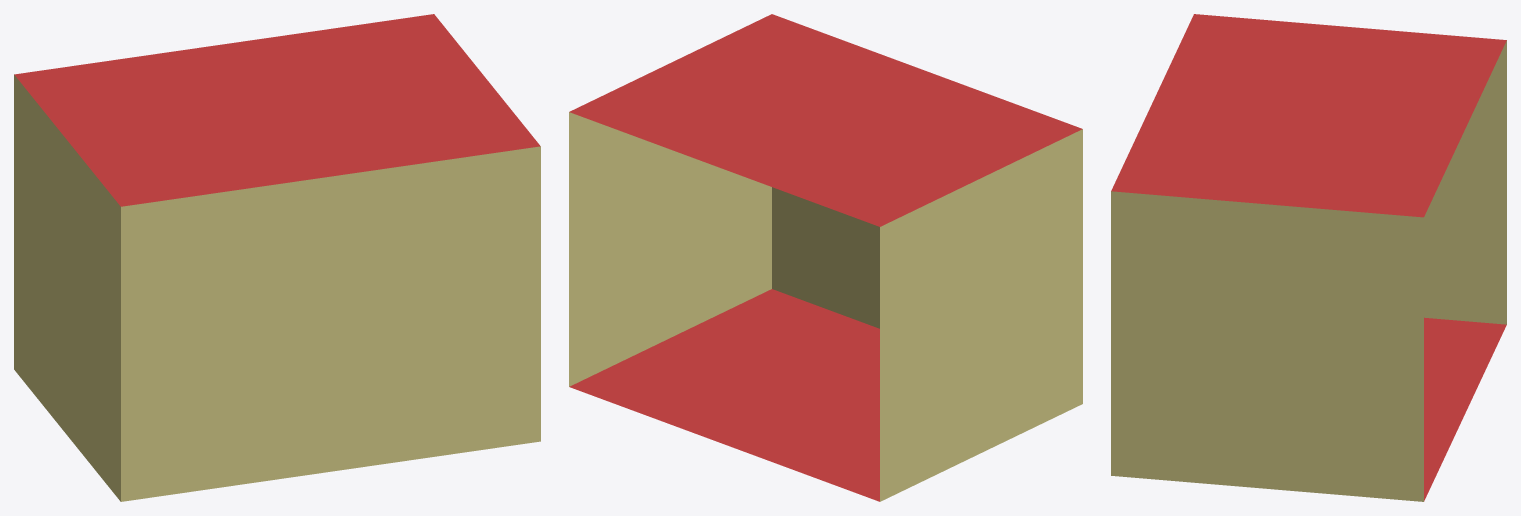
3 renders of one model, left to right at view 1: azimuth 30°, elevation 25°; view 2: azimuth 150°, elevation 25°; view 3: azimuth 270°, elevation 25°, orthographic. The views are drawn at different scales.
Bounding box in the file's own units: 8.23 × 6.76 × 5.36.
